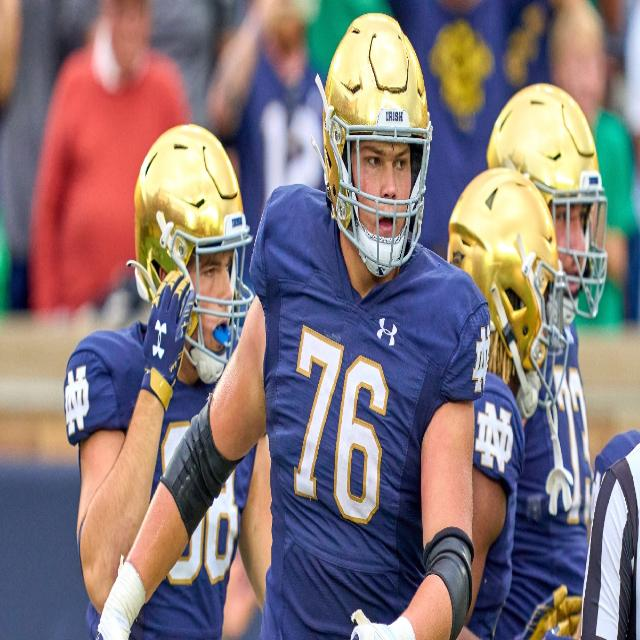illegal_helmet: (308, 4, 434, 282), (130, 116, 255, 389), (444, 162, 577, 410), (484, 79, 612, 327)
